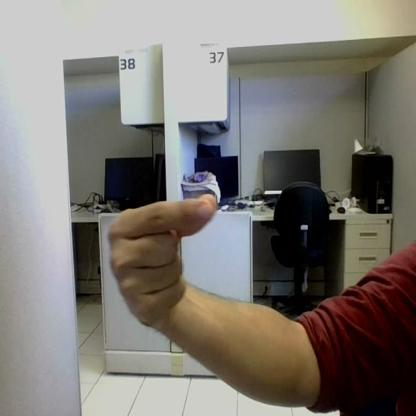G: (108, 199, 215, 329)
